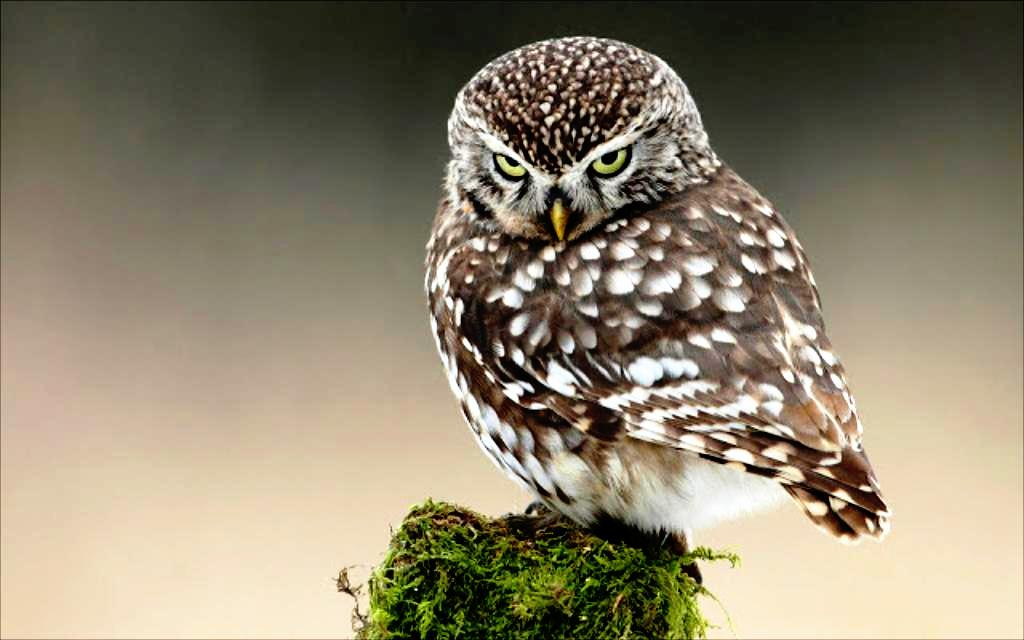Owl: (426, 31, 898, 586)
